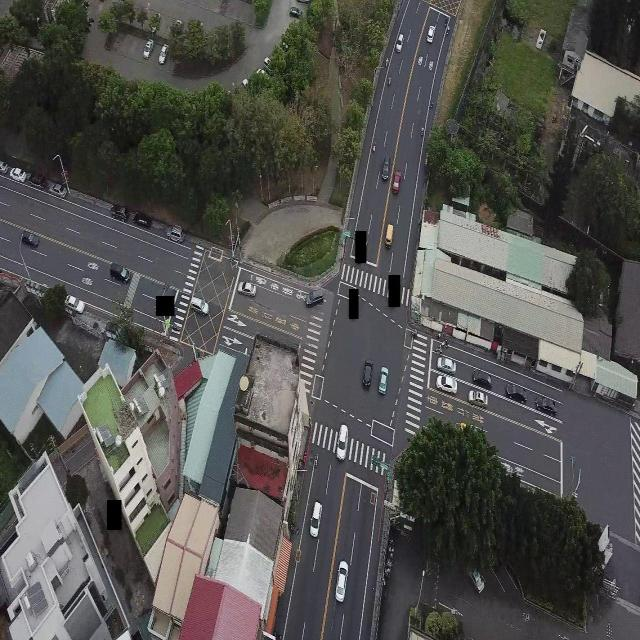bike: (314, 452, 320, 469), (420, 124, 426, 140), (371, 141, 377, 155), (388, 74, 392, 88), (430, 95, 434, 108), (446, 23, 450, 36), (385, 56, 389, 68)
car: (333, 559, 350, 602), (334, 423, 351, 462), (63, 291, 90, 314), (504, 378, 527, 405), (536, 394, 560, 418), (308, 500, 322, 539), (108, 262, 130, 283), (472, 367, 494, 388), (467, 388, 490, 408), (468, 566, 484, 594), (10, 162, 27, 188), (361, 359, 374, 392), (436, 354, 457, 374), (190, 295, 209, 317), (304, 286, 324, 306), (20, 229, 39, 249), (381, 222, 395, 249), (377, 365, 388, 396), (390, 169, 402, 196), (167, 224, 184, 242), (50, 181, 67, 199), (111, 206, 128, 223), (379, 156, 390, 181), (240, 280, 256, 296), (158, 44, 168, 64), (426, 24, 436, 44), (143, 38, 153, 58), (288, 4, 301, 19), (396, 34, 405, 54)
